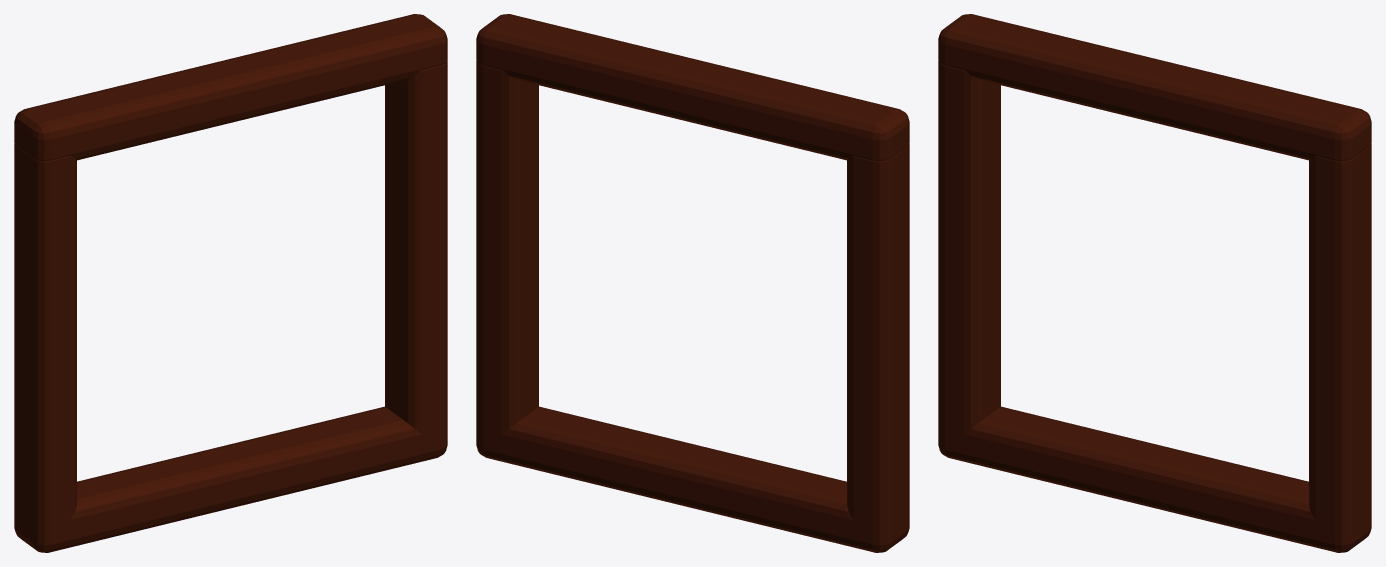
File: marco_fotografia.obj
3 renders of one model, left to right at view 1: azimuth 30°, elevation 25°; view 2: azimuth 150°, elevation 25°; view 3: azimuth 330°, elevation 25°, orthographic.
Parts seen in each view (by area): view 1: marco_fotografia; view 2: marco_fotografia; view 3: marco_fotografia.
Boxes of the visible parts, <box> form: marco_fotografia: <box>14,14,447,552</box>; marco_fotografia: <box>476,14,909,552</box>; marco_fotografia: <box>938,14,1371,552</box>.
Size of the model in its own units: 0.87 by 0.865 by 0.11.
